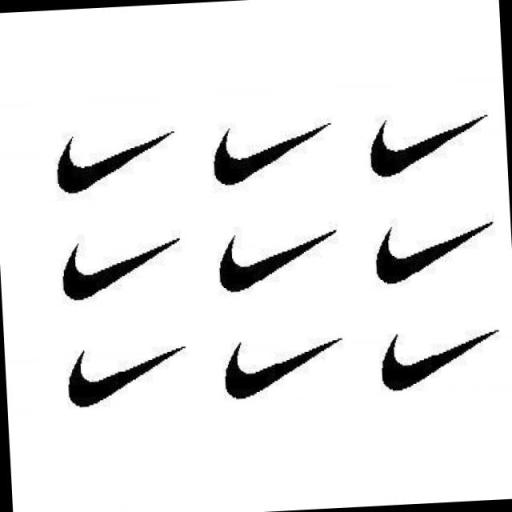Nike: (212, 224, 347, 294)
